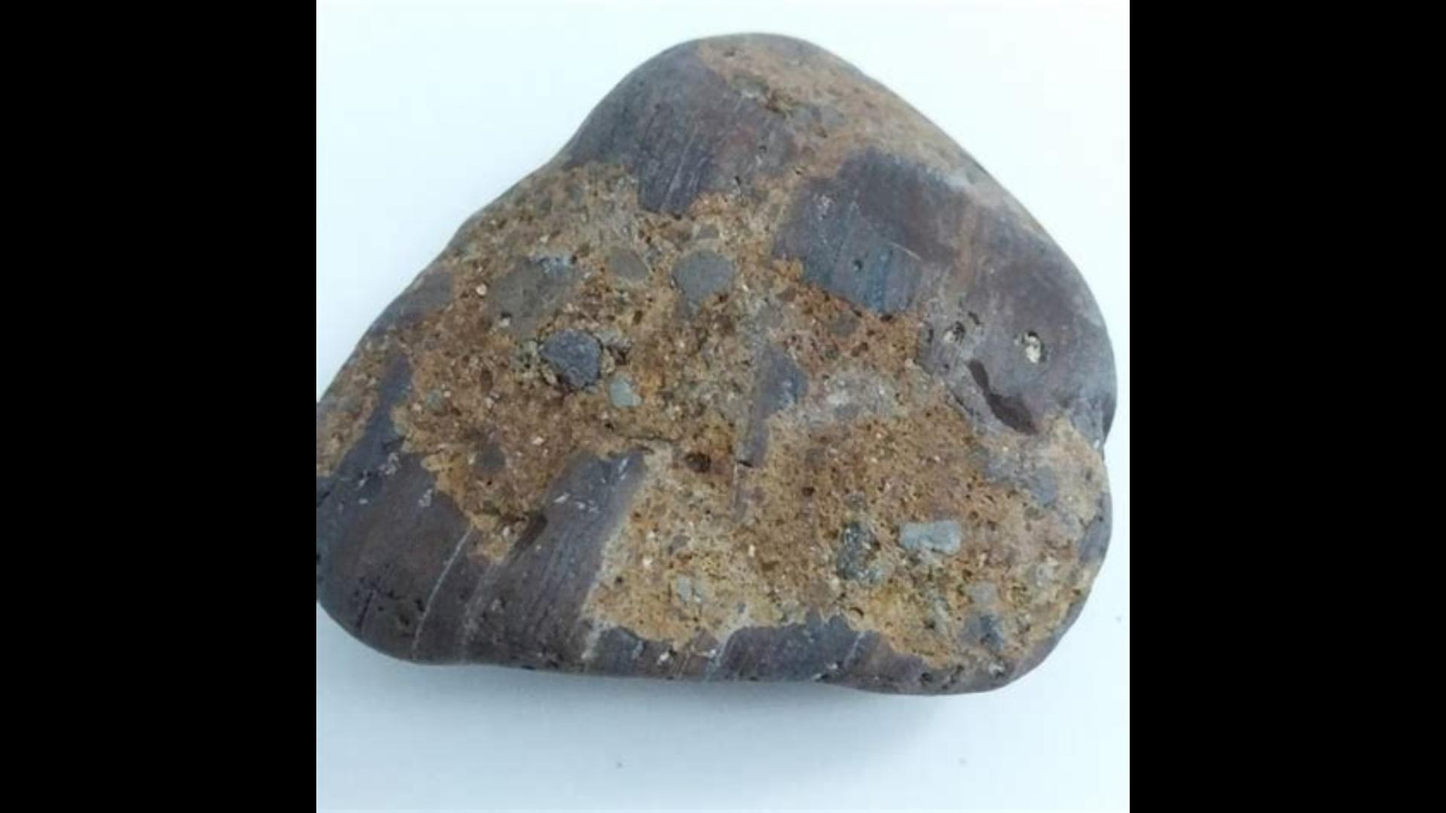rock: (316, 34, 1113, 684)
